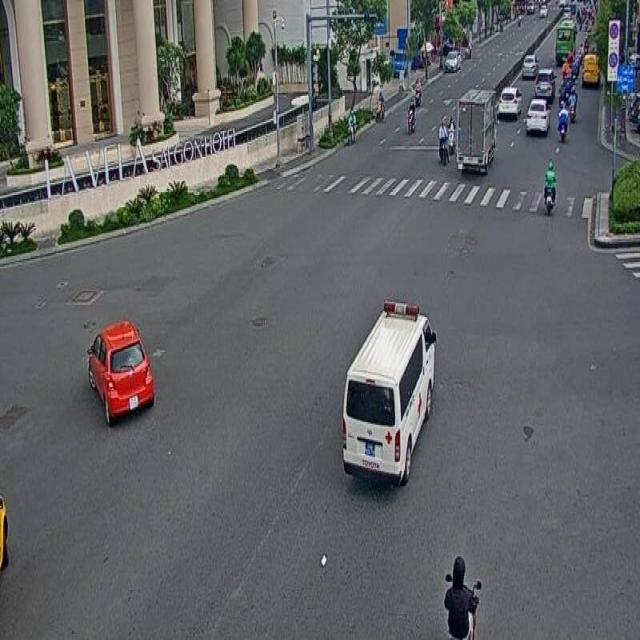car: (84, 319, 151, 422)
truck: (339, 305, 438, 498)
